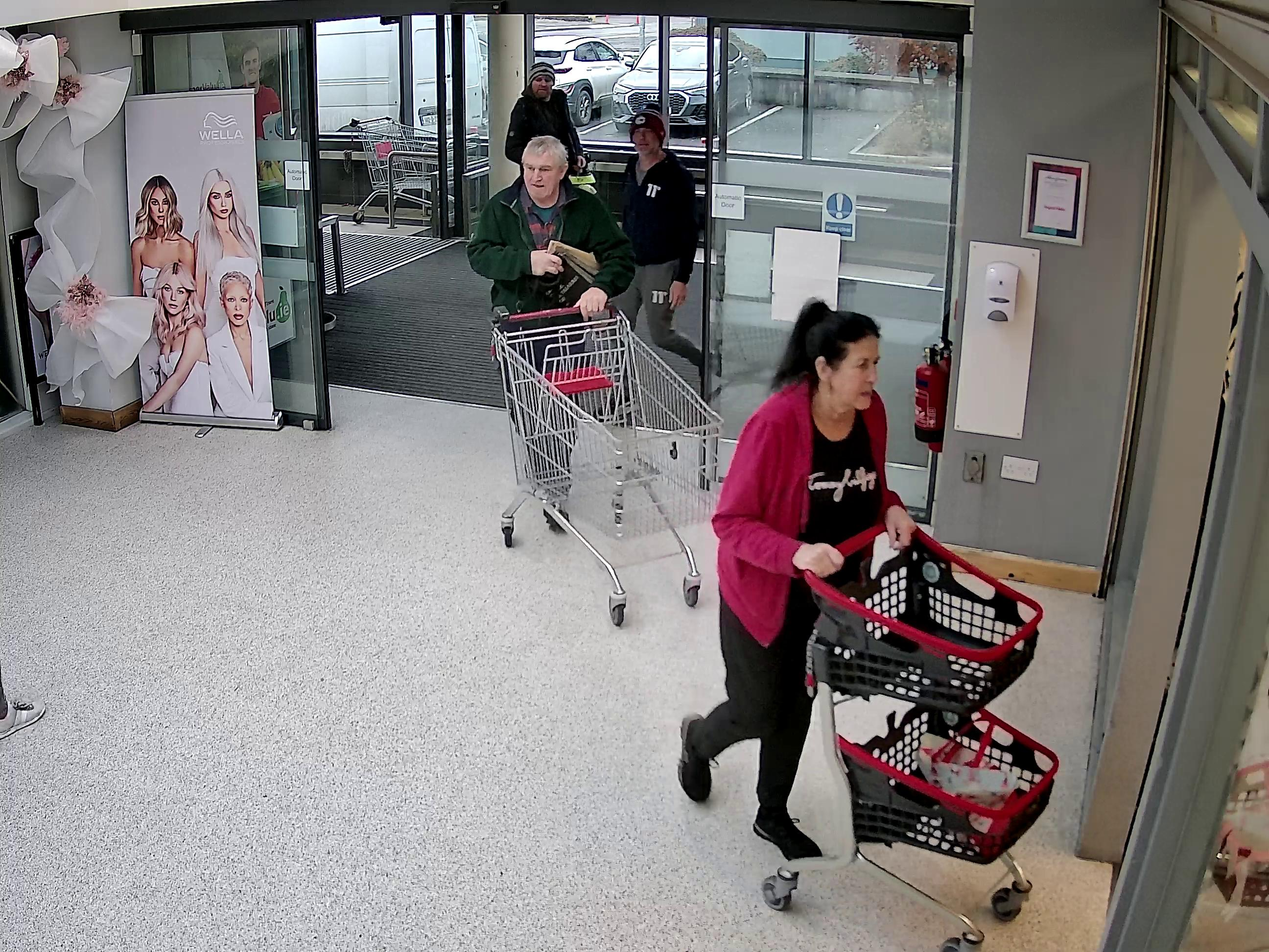empty-shopping-bags: (916, 715, 1027, 842), (526, 238, 602, 308)
empty-trolly: (804, 507, 1060, 952), (490, 298, 726, 624)
person: (678, 295, 914, 866), (468, 136, 637, 528)
person-with-basket-trolly-and-shopping-bag: (679, 294, 1060, 952), (468, 138, 727, 621)
